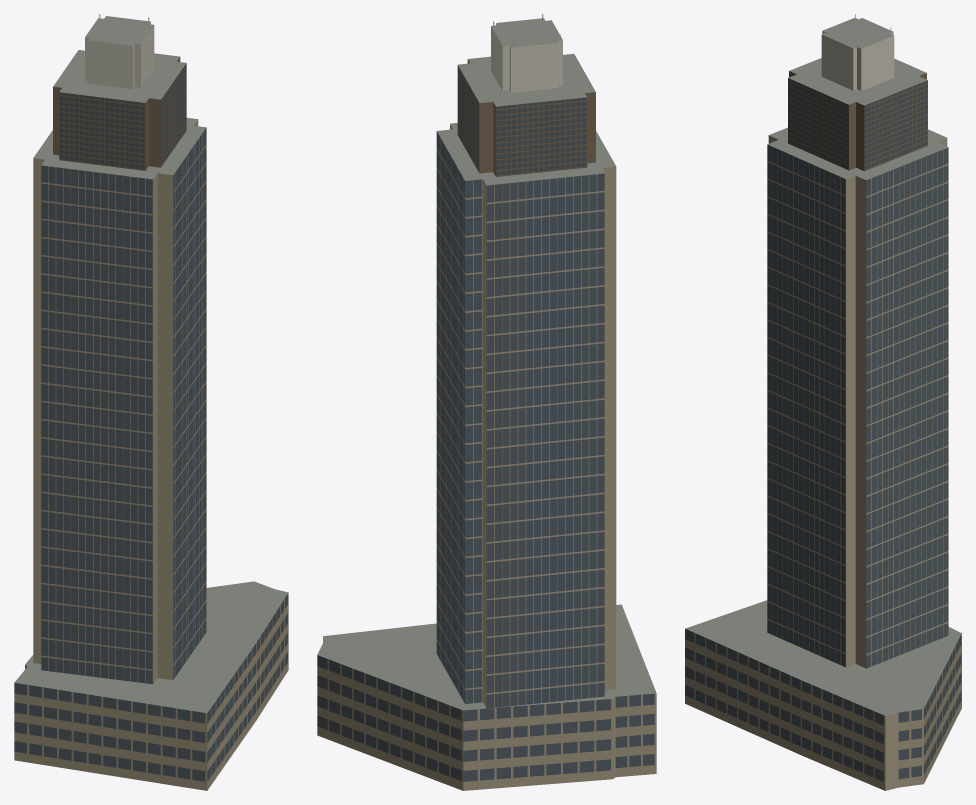
File: tour-bretagne-nantes-near.glb
3 renders of one model, left to right at view 1: azimuth 30°, elevation 25°; view 2: azimuth 150°, elevation 25°; view 3: azimuth 270°, elevation 25°, orthographic. The views are drawn at different scales.
Parts seen in each view (by area): view 1: tour-bretagne-nantes-0-glass, tour-bretagne-nantes-0-frame, tour-bretagne-nantes-0-roof, tour-bretagne-nantes-0-vent, tour-bretagne-nantes-0-mechanical, tour-bretagne-nantes-0-tank; view 2: tour-bretagne-nantes-0-glass, tour-bretagne-nantes-0-frame, tour-bretagne-nantes-0-roof, tour-bretagne-nantes-0-vent, tour-bretagne-nantes-0-mechanical, tour-bretagne-nantes-0-tank; view 3: tour-bretagne-nantes-0-glass, tour-bretagne-nantes-0-frame, tour-bretagne-nantes-0-roof, tour-bretagne-nantes-0-vent, tour-bretagne-nantes-0-mechanical, tour-bretagne-nantes-0-tank.
Boxes of the visible parts, x1,y1,x2,y2 form: tour-bretagne-nantes-0-glass: [14, 128, 287, 781]; tour-bretagne-nantes-0-frame: [14, 119, 288, 790]; tour-bretagne-nantes-0-roof: [14, 16, 288, 713]; tour-bretagne-nantes-0-vent: [59, 64, 186, 169]; tour-bretagne-nantes-0-mechanical: [53, 57, 186, 170]; tour-bretagne-nantes-0-tank: [85, 14, 154, 89]; tour-bretagne-nantes-0-glass: [317, 131, 654, 781]; tour-bretagne-nantes-0-frame: [317, 124, 656, 790]; tour-bretagne-nantes-0-roof: [317, 18, 656, 710]; tour-bretagne-nantes-0-vent: [457, 65, 586, 175]; tour-bretagne-nantes-0-mechanical: [457, 59, 595, 176]; tour-bretagne-nantes-0-tank: [491, 14, 562, 92]; tour-bretagne-nantes-0-glass: [685, 144, 961, 781]; tour-bretagne-nantes-0-frame: [685, 135, 961, 790]; tour-bretagne-nantes-0-roof: [685, 18, 961, 715]; tour-bretagne-nantes-0-vent: [788, 78, 927, 169]; tour-bretagne-nantes-0-mechanical: [788, 71, 927, 171]; tour-bretagne-nantes-0-tank: [821, 14, 894, 90].
Bounding box in the file's own units: 64.28 × 144 × 53.44.
